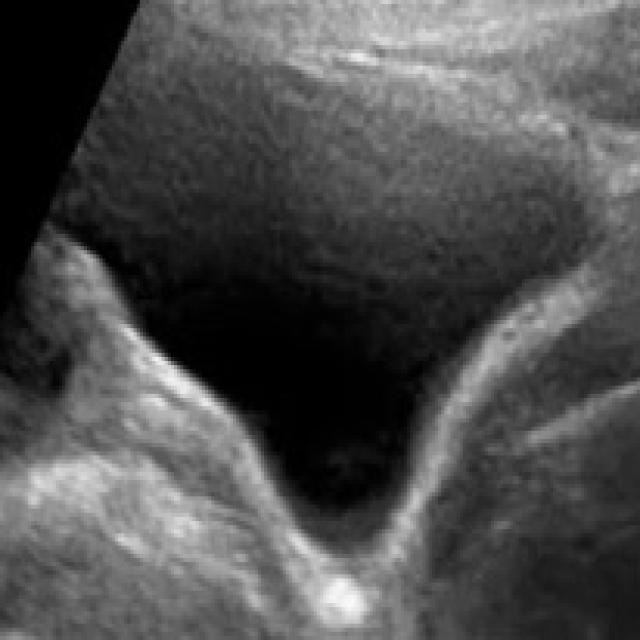bladder: (36, 16, 634, 613)
